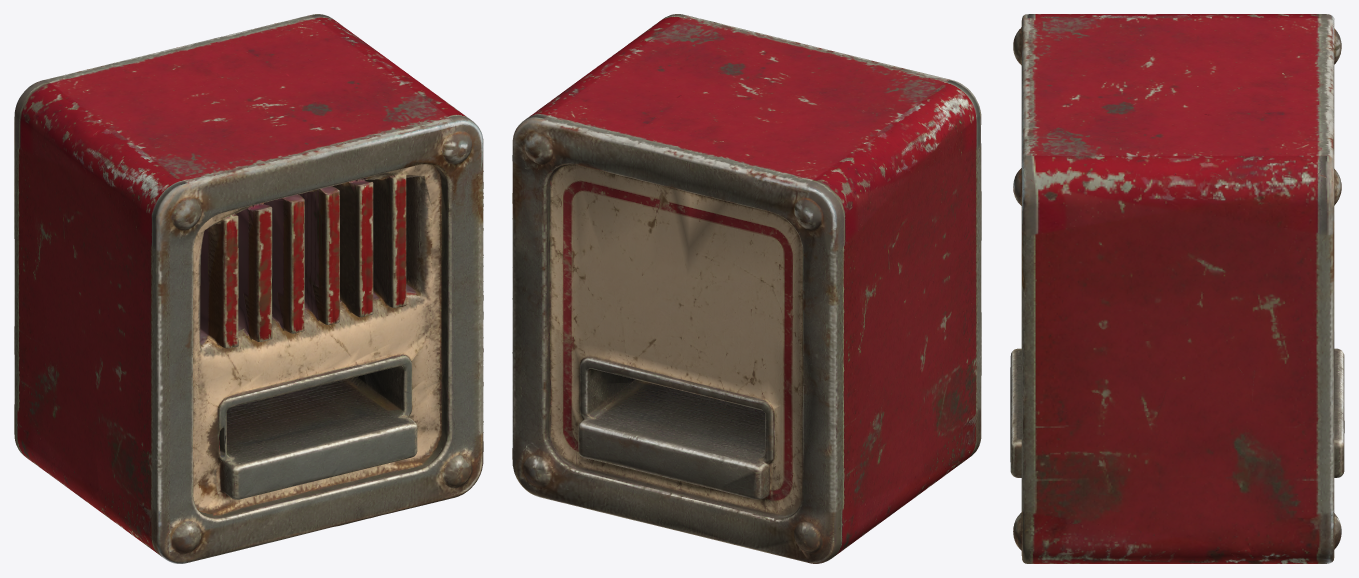
File: Meshy_AI_Rusty_Vintage_Slot_Bo_0523175829_texture.fbx
3 renders of one model, left to right at view 1: azimuth 30°, elevation 25°; view 2: azimuth 150°, elevation 25°; view 3: azimuth 270°, elevation 25°, orthographic. The views are drawn at different scales.
Visible parts, largest first — view 1: Mesh_0; view 2: Mesh_0; view 3: Mesh_0.
Part boxes in pixels (box(x1,y1,x2,y2)): Mesh_0: box(14, 14, 483, 563); Mesh_0: box(512, 14, 981, 563); Mesh_0: box(1010, 14, 1344, 563).
Size of the model in its own units: 172 by 191 by 143.
Materials: 1 (1 with a texture image).
